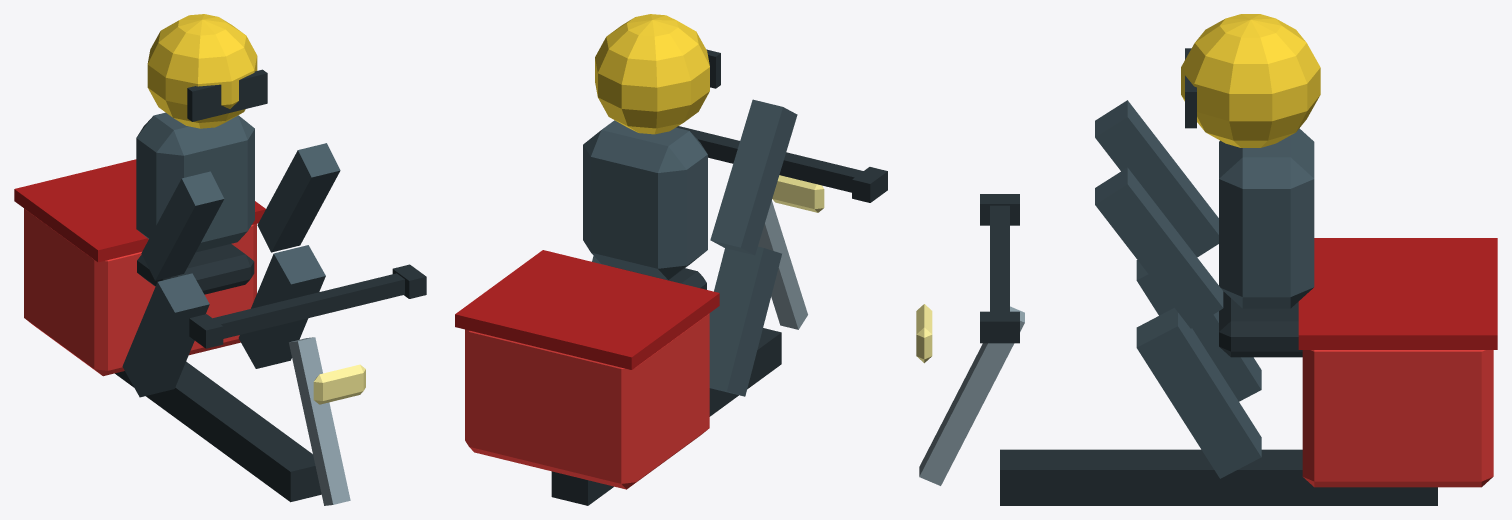
File: Moto_Detay.fbx
3 views of the same model, side by side, from view 1: azimuth 30°, elevation 25°; view 2: azimuth 150°, elevation 25°; view 3: azimuth 270°, elevation 25° (orthographic). The views are drawn at different scales.
Parts seen in each view (by area): view 1: Moto_Detay; view 2: Moto_Detay; view 3: Moto_Detay.
Part boxes in pixels (left/top/right/bottom): Moto_Detay: left=14, top=14, right=426, bottom=505; Moto_Detay: left=455, top=14, right=887, bottom=505; Moto_Detay: left=916, top=14, right=1497, bottom=505.
Size of the model in its own units: 76 by 132 by 146.
